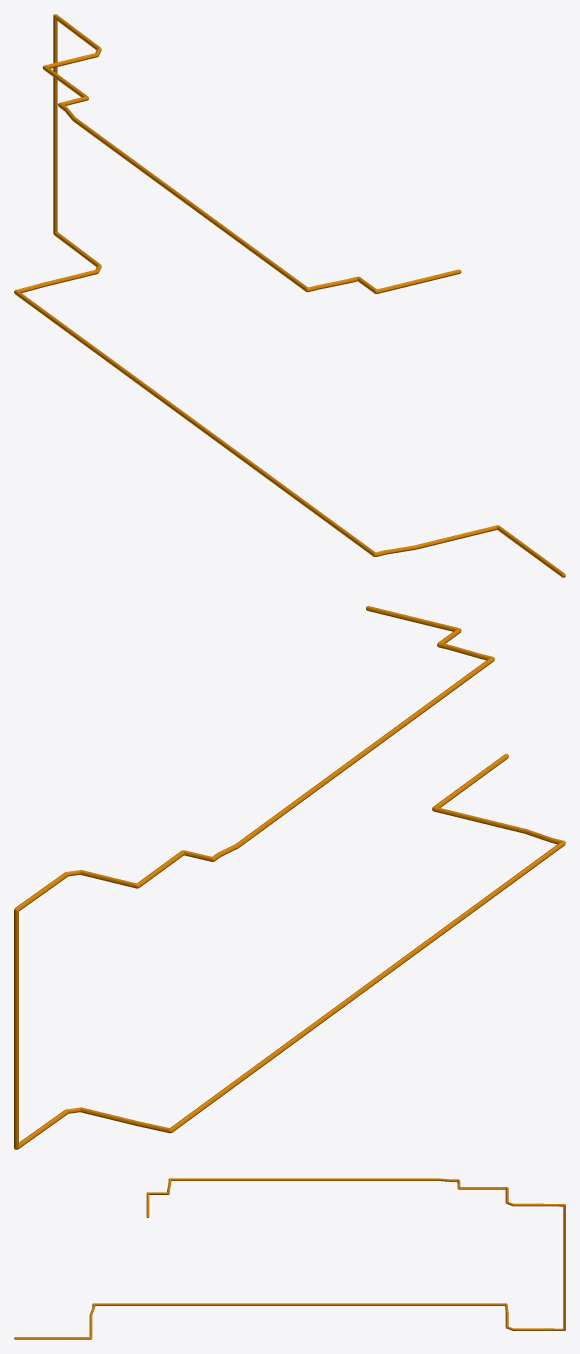
3 views of the same model, one above another, from view 1: azimuth 30°, elevation 25°; view 2: azimuth 150°, elevation 25°; view 3: azimuth 270°, elevation 25° (orthographic). The views are drawn at different scales.
Bounding box in the file's own units: 660 × 1020 × 4015.
